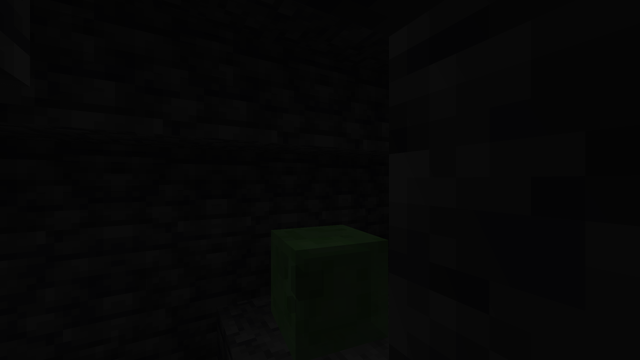slimes: (265, 221, 374, 358)
